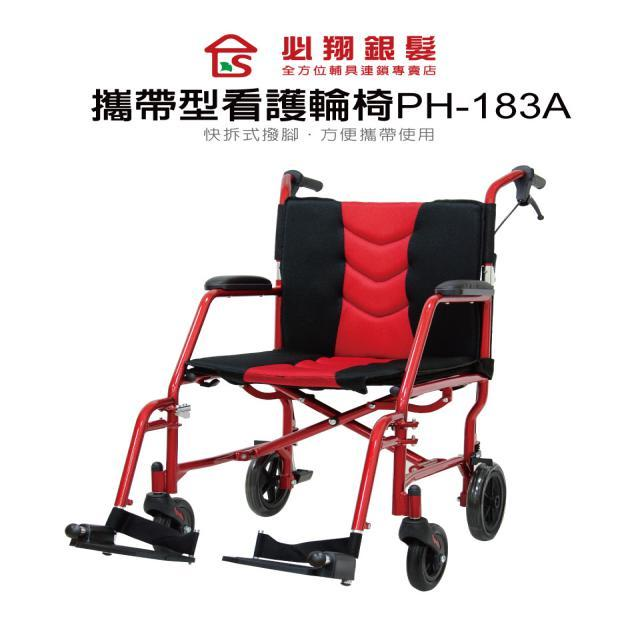wheelchair: (59, 168, 556, 586)
